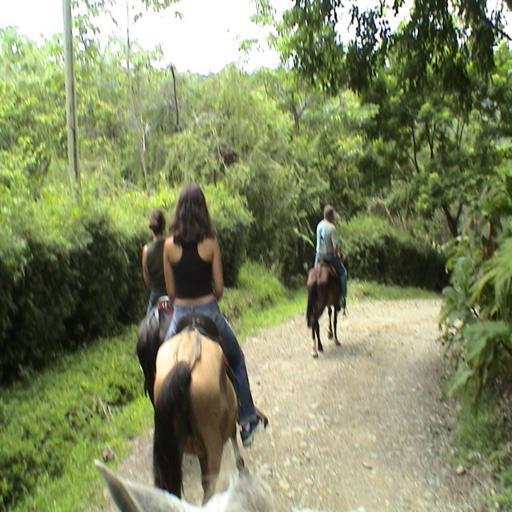horse: (150, 323, 246, 500), (90, 456, 282, 511), (302, 248, 348, 356), (134, 304, 172, 406)
